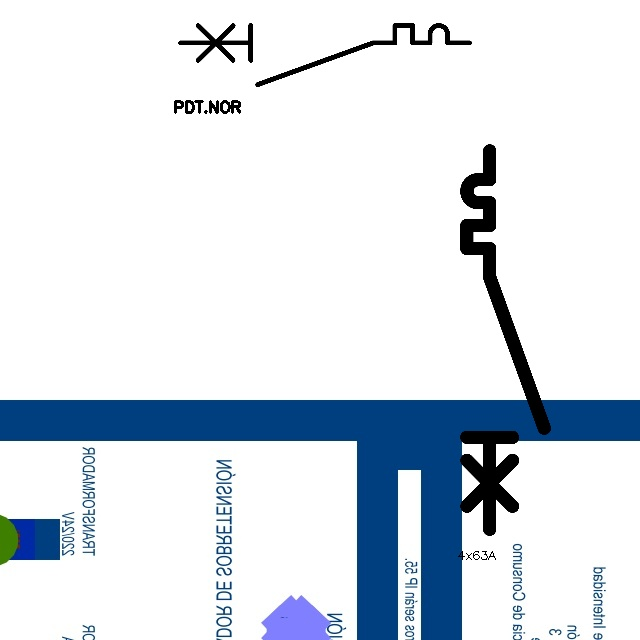interruptor_termomagnetico: (457, 141, 554, 539), (173, 18, 477, 92)
